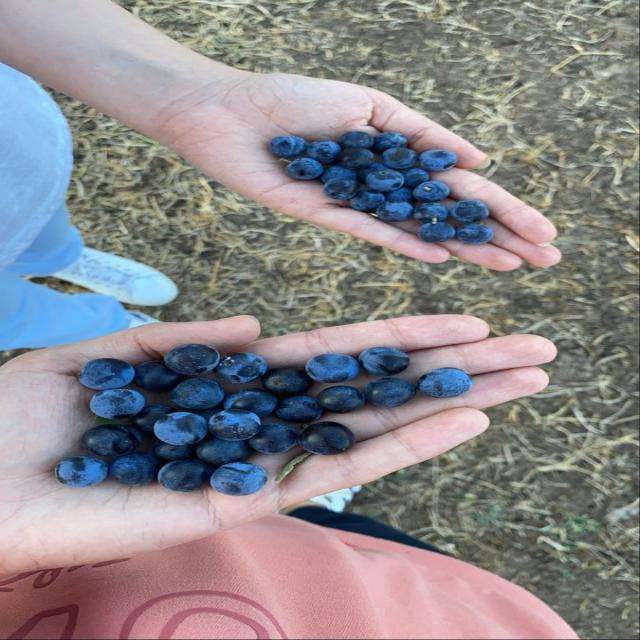blueberry: (211, 462, 267, 495), (82, 425, 141, 456), (78, 358, 135, 390), (299, 421, 354, 454), (158, 460, 213, 492), (154, 412, 207, 445), (170, 378, 224, 410), (164, 344, 219, 375), (91, 389, 145, 419), (109, 454, 161, 485), (197, 437, 252, 466), (55, 456, 108, 486), (247, 423, 298, 454), (216, 352, 267, 383), (419, 368, 473, 397), (134, 361, 185, 391), (209, 410, 260, 440), (306, 354, 360, 382), (223, 389, 277, 417), (262, 366, 312, 396), (359, 347, 409, 375), (366, 378, 416, 406), (316, 386, 365, 413), (132, 405, 176, 433), (275, 396, 322, 422), (152, 440, 195, 460), (450, 200, 489, 222), (285, 158, 324, 180), (366, 169, 403, 191), (307, 140, 342, 163), (382, 147, 418, 169), (349, 190, 385, 212), (337, 148, 374, 169), (270, 136, 307, 157), (420, 150, 457, 171), (414, 181, 450, 202), (457, 223, 493, 244), (419, 222, 456, 242), (376, 202, 413, 221), (324, 179, 359, 199), (414, 203, 448, 222), (321, 165, 358, 182), (374, 133, 407, 152), (401, 167, 429, 188), (339, 132, 373, 149), (358, 162, 387, 181), (386, 187, 413, 203), (193, 407, 222, 420)
